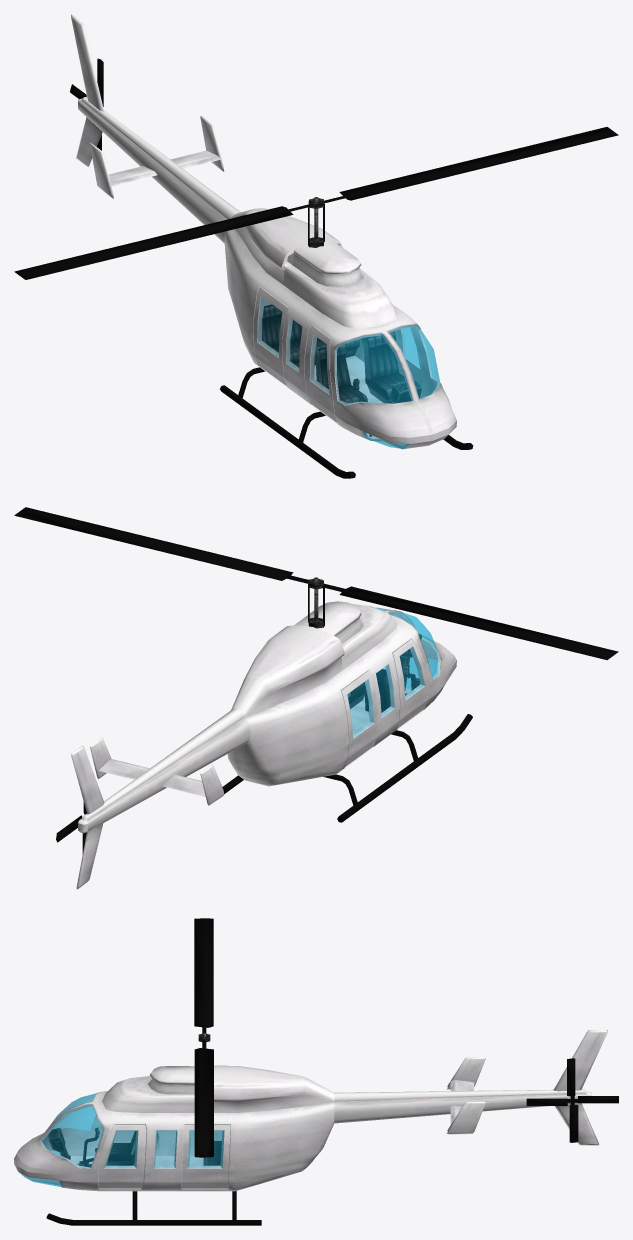
Rendered from heli.obj.
The picture shows the model from 3 angles, top to bottom: view 1: azimuth 30°, elevation 25°; view 2: azimuth 150°, elevation 25°; view 3: azimuth 270°, elevation 25°; orthographic projection. The views are drawn at different scales.
Parts seen in each view (by area): view 1: chassis, windows, static_rotor, interior, landing, door_rr_ok, door_rf_ok; view 2: chassis, static_rotor, windows, landing, door_rr_ok, door_rf_ok, interior; view 3: chassis, windows, static_rotor, door_lr_ok, door_lf_ok, landing, interior, static_rotor2.
Boxes of the visible parts, box(x1,y1,x2,y2) form: chassis: box(71, 14, 456, 449); windows: box(258, 297, 440, 448); static_rotor: box(14, 127, 618, 279); interior: box(262, 304, 422, 436); landing: box(220, 367, 473, 478); door_rr_ok: box(253, 287, 288, 385); door_rf_ok: box(304, 325, 337, 422); chassis: box(71, 601, 456, 889); static_rotor: box(14, 507, 618, 660); windows: box(347, 607, 448, 737); landing: box(222, 714, 472, 822); door_rr_ok: box(340, 670, 377, 766); door_rf_ok: box(392, 639, 428, 728); interior: box(347, 634, 422, 712); chassis: box(14, 1030, 607, 1191); windows: box(19, 1093, 223, 1187); static_rotor: box(194, 918, 213, 1157); door_lr_ok: box(181, 1124, 230, 1188); door_lf_ok: box(98, 1124, 146, 1188); landing: box(46, 1191, 261, 1225); interior: box(48, 1127, 221, 1167); static_rotor2: box(526, 1058, 618, 1142).
Bounding box in the file's own units: 2.55 × 0.856 × 2.73.
7 materials, 3 textured.
